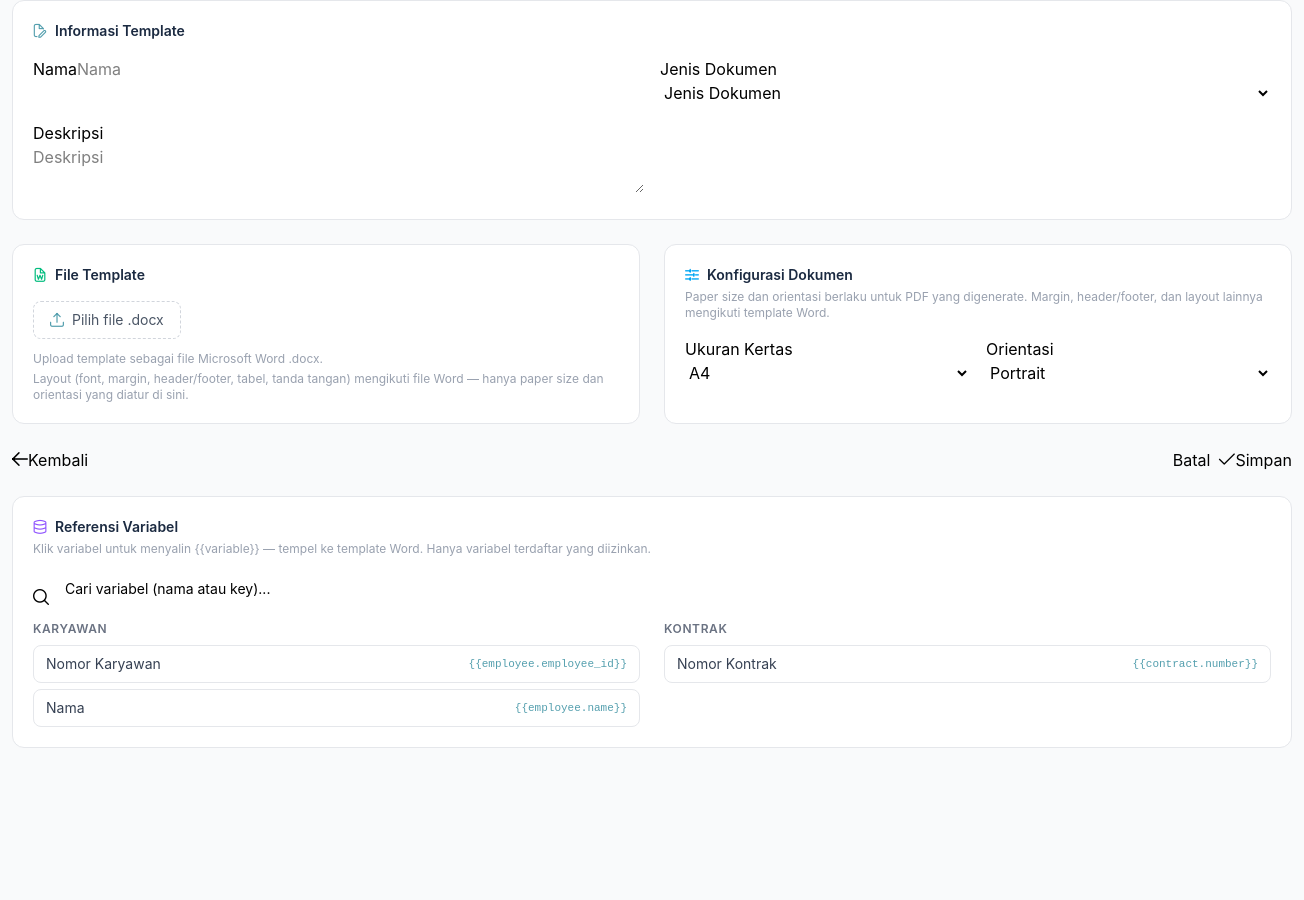
Test: DocumentTemplateForm (create) › validasi: tanpa file docx menampilkan error file_required
The width and height of the screenshot is (1304, 900).
Type "Perjanjian PKWT" into the field with class "textinput-stub" at (201, 69), box [77, 57, 325, 81]
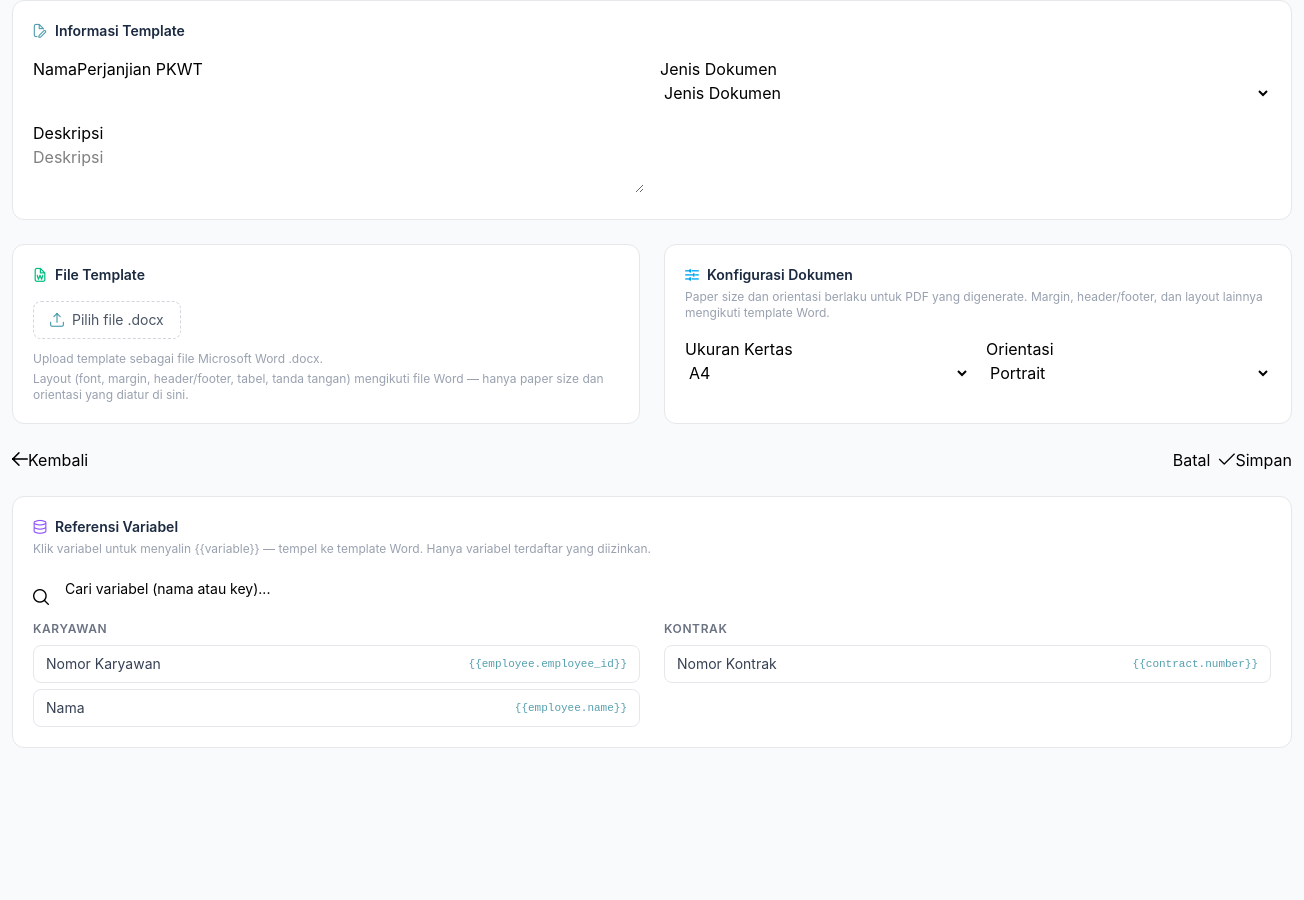
Select "Perjanjian Kontrak" in the dropdown with class "select-stub" below "Jenis Dokumen" at (966, 93), box [660, 82, 1271, 104]
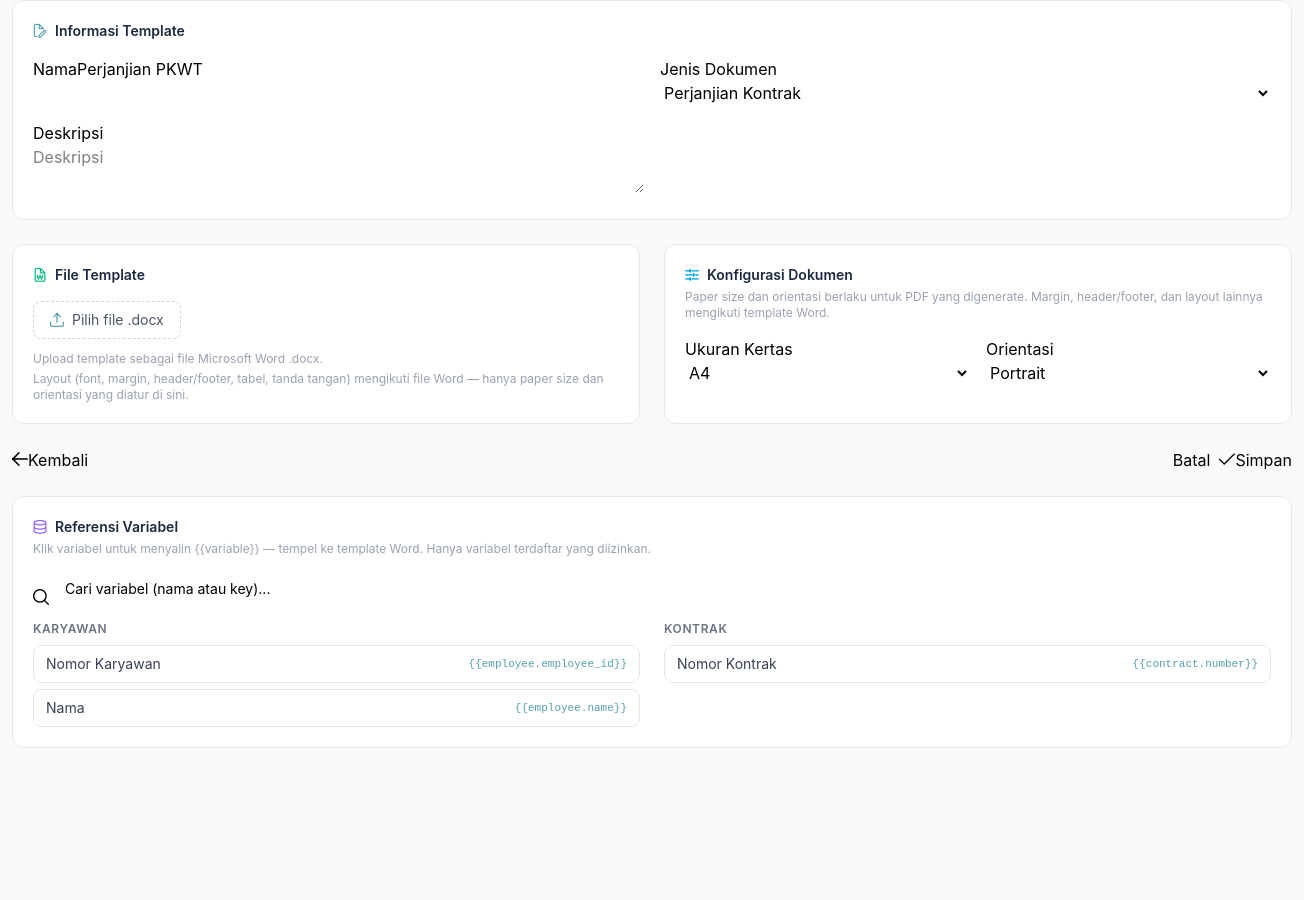
Click the button "Simpan" at (1255, 460), box [1218, 448, 1292, 472]
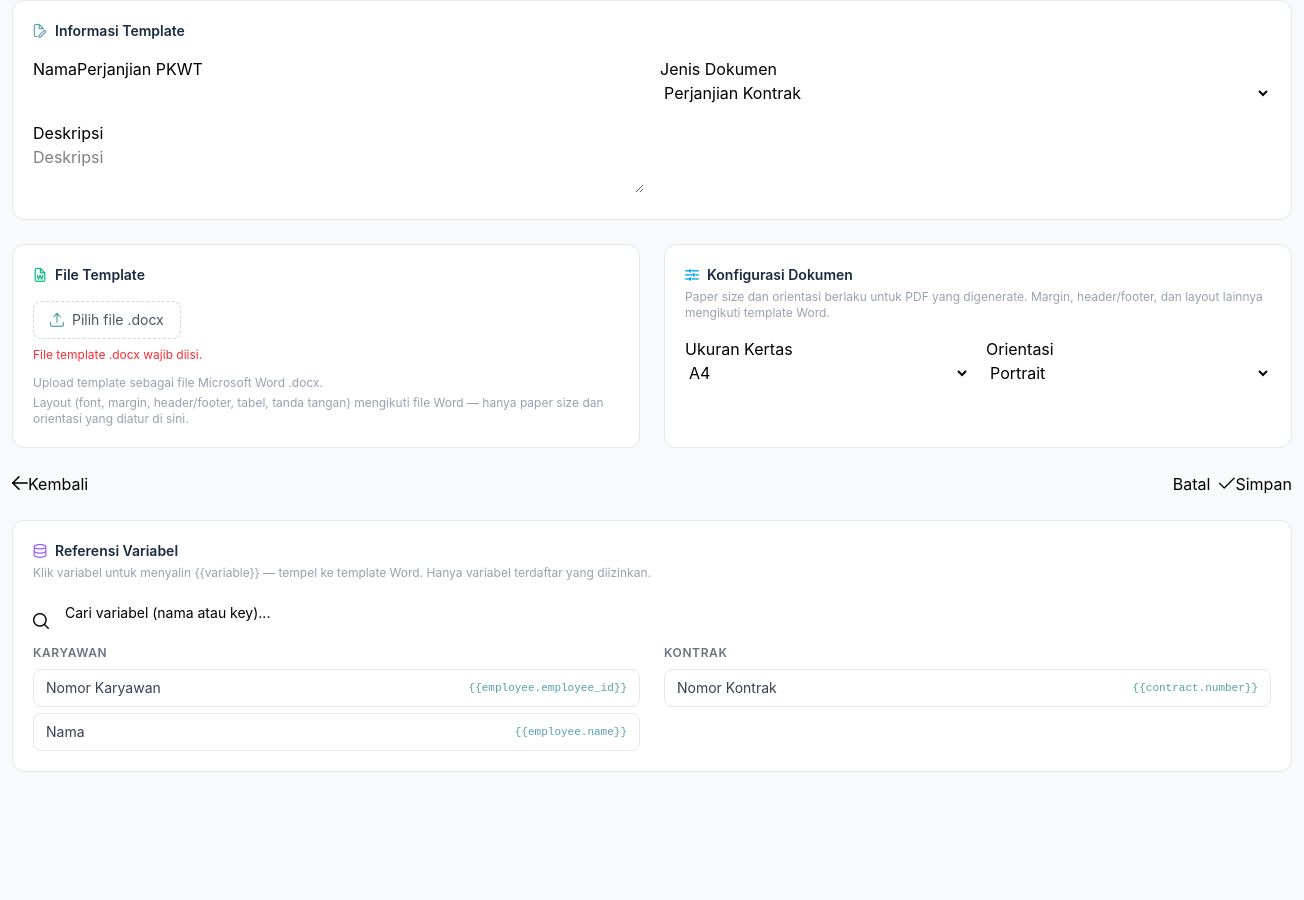
Check: the text "File template .docx wajib diisi." is shown, box [33, 347, 202, 362]
